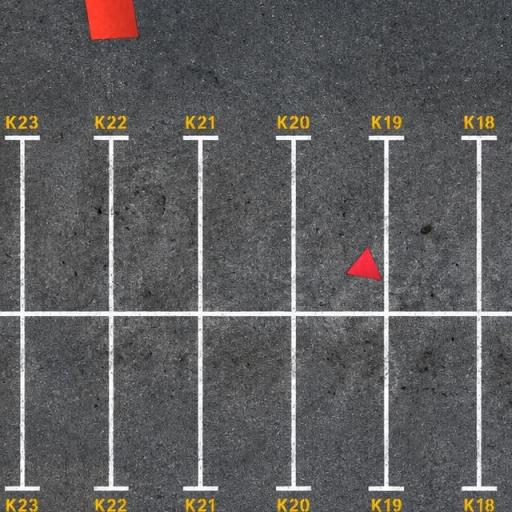RED_SQUARE: (83, 0, 139, 41)
